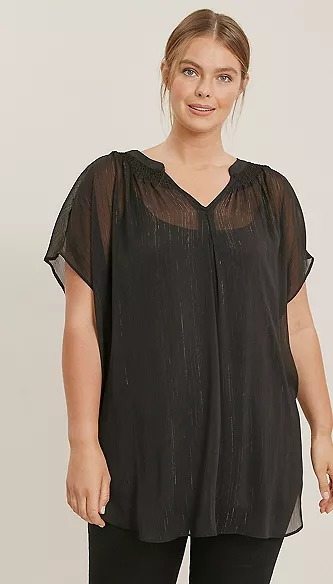S_short blouse: (41, 154, 329, 539)
